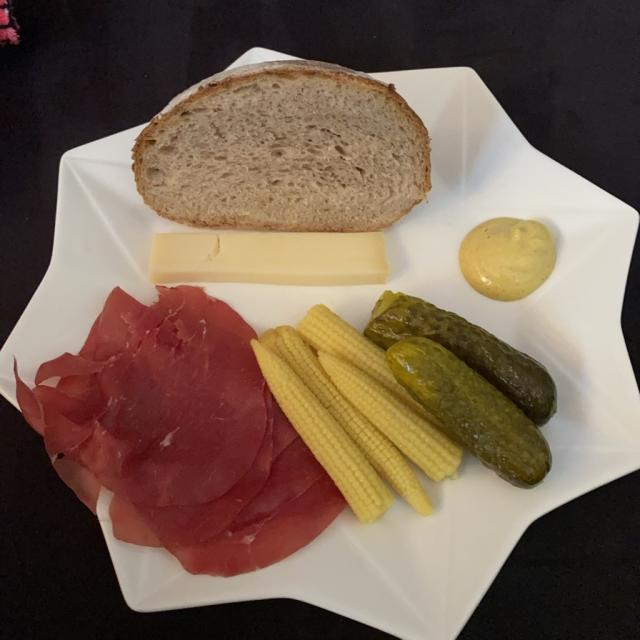bread-whole-wheat: (135, 67, 429, 228)
cucumber-pickled: (377, 301, 556, 481)
gruyere: (150, 231, 388, 284)
mayonnaise: (452, 218, 562, 307)
